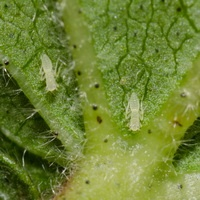insect: (125, 92, 143, 130)
